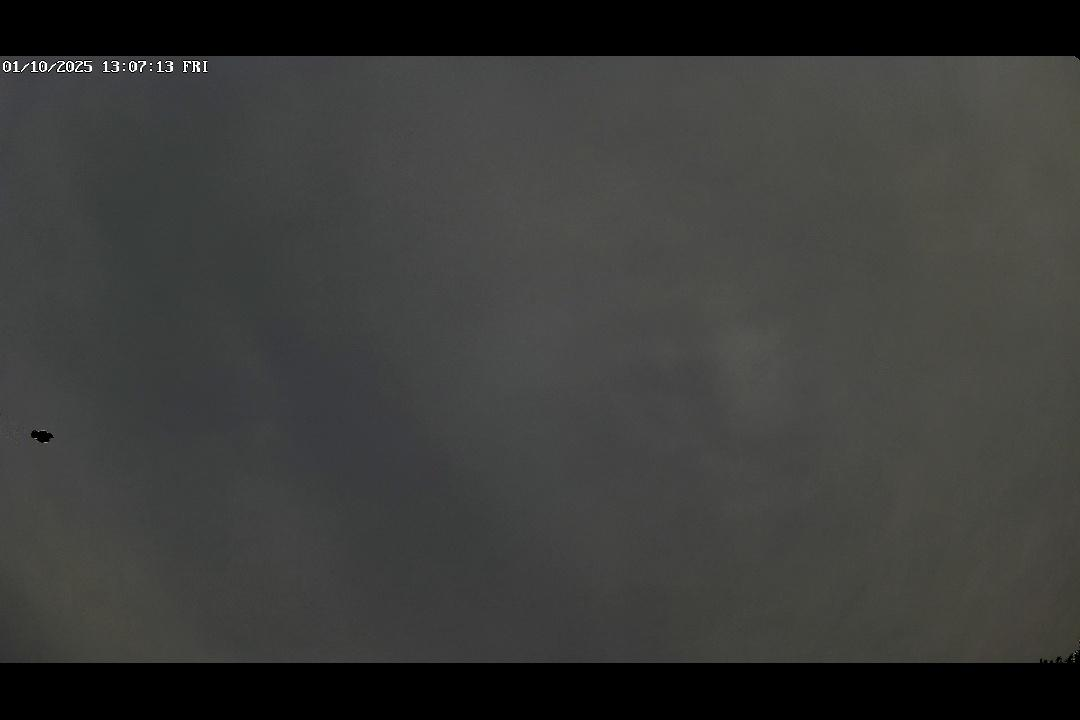Plane: (15, 418, 69, 458)
